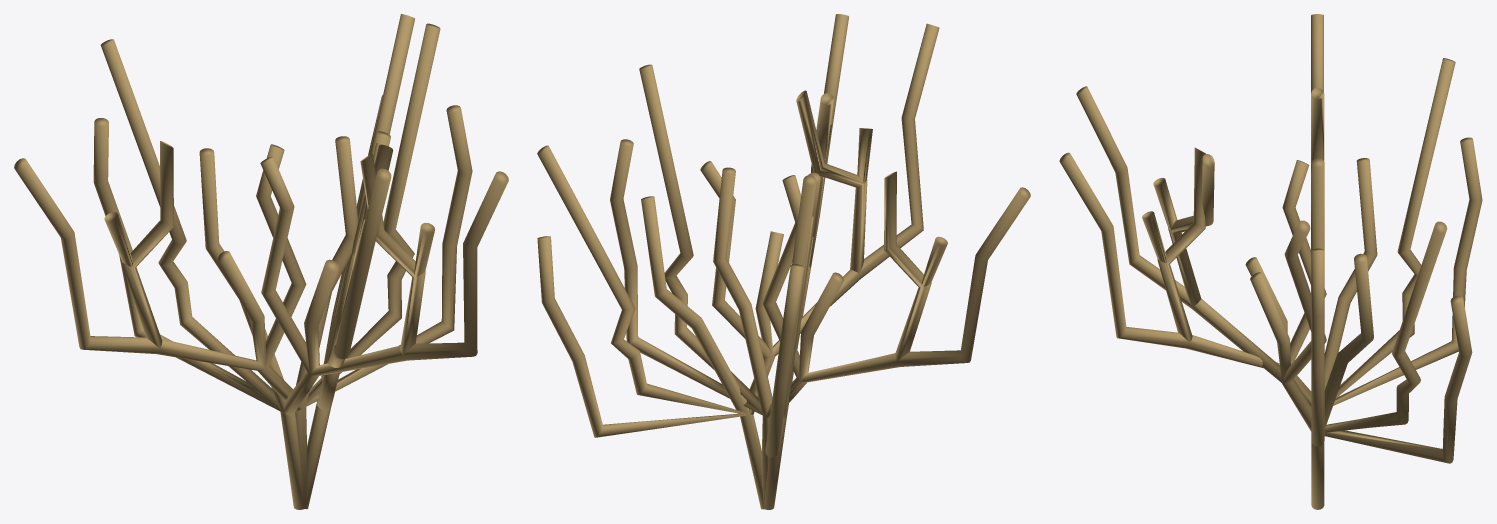
File: Arbusto.fbx
The picture shows the model from 3 angles, left to right: view 1: azimuth 30°, elevation 25°; view 2: azimuth 150°, elevation 25°; view 3: azimuth 270°, elevation 25°; orthographic projection. The views are drawn at different scales.
Visible parts, largest first — view 1: arbusto_seco2; view 2: arbusto_seco2; view 3: arbusto_seco2.
Boxes of the visible parts, x1,y1,x2,y2 form: arbusto_seco2: [14, 14, 508, 509]; arbusto_seco2: [537, 14, 1030, 509]; arbusto_seco2: [1059, 14, 1482, 509].
Bounding box in the file's own units: 106 × 97.73 × 92.7.
